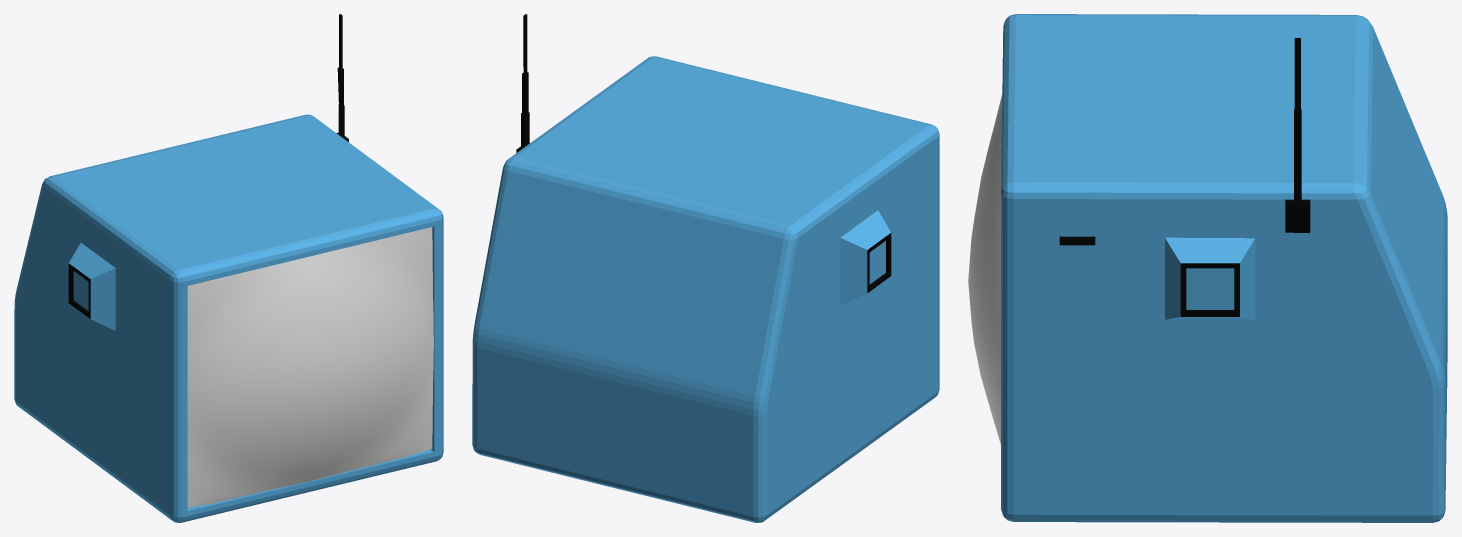
The model's file is BillyBot.fbx.
The picture shows the model from 3 angles, left to right: view 1: azimuth 30°, elevation 25°; view 2: azimuth 150°, elevation 25°; view 3: azimuth 270°, elevation 25°; orthographic projection. The views are drawn at different scales.
Visible parts, largest first — view 1: Cube, Screen, Cube.007, antina, Cube.006; view 2: Cube, Cube.007, antina, Cube.006; view 3: Cube, Screen, Cube.004, antina, Cube.005.
Boxes of the visible parts, <box> form: Cube: <box>14,114,443,522</box>; Screen: <box>187,227,433,507</box>; Cube.007: <box>69,243,115,330</box>; antina: <box>336,14,348,141</box>; Cube.006: <box>68,263,90,318</box>; Cube: <box>472,56,939,522</box>; Cube.007: <box>840,210,890,305</box>; antina: <box>516,14,529,152</box>; Cube.006: <box>867,233,891,292</box>; Cube: <box>1001,14,1447,522</box>; Screen: <box>968,94,1002,444</box>; Cube.004: <box>1165,237,1255,319</box>; antina: <box>1285,38,1310,232</box>; Cube.005: <box>1180,263,1239,316</box>.
Size of the model in its own units: 226 by 257 by 228.
